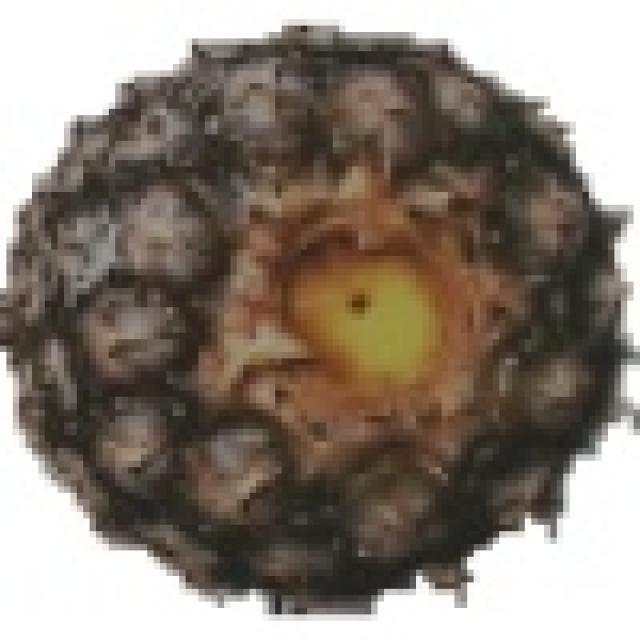pineapple: (6, 19, 608, 595)
